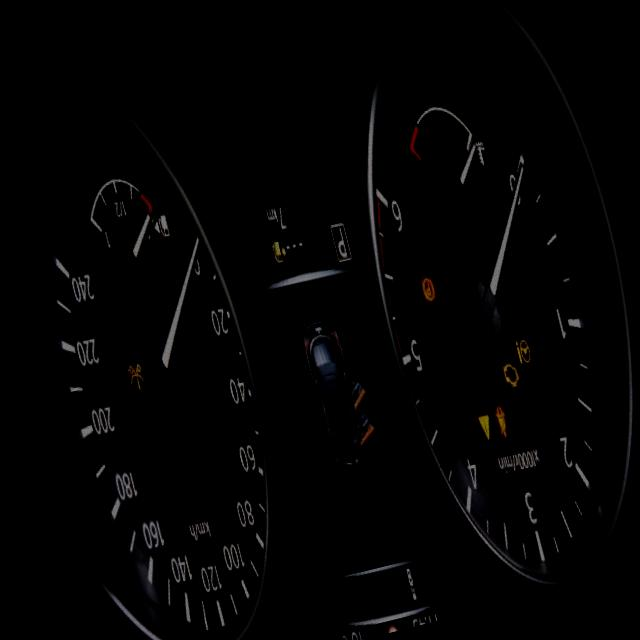kontrolka: (411, 260, 442, 314), (497, 354, 522, 392), (510, 332, 534, 371)
